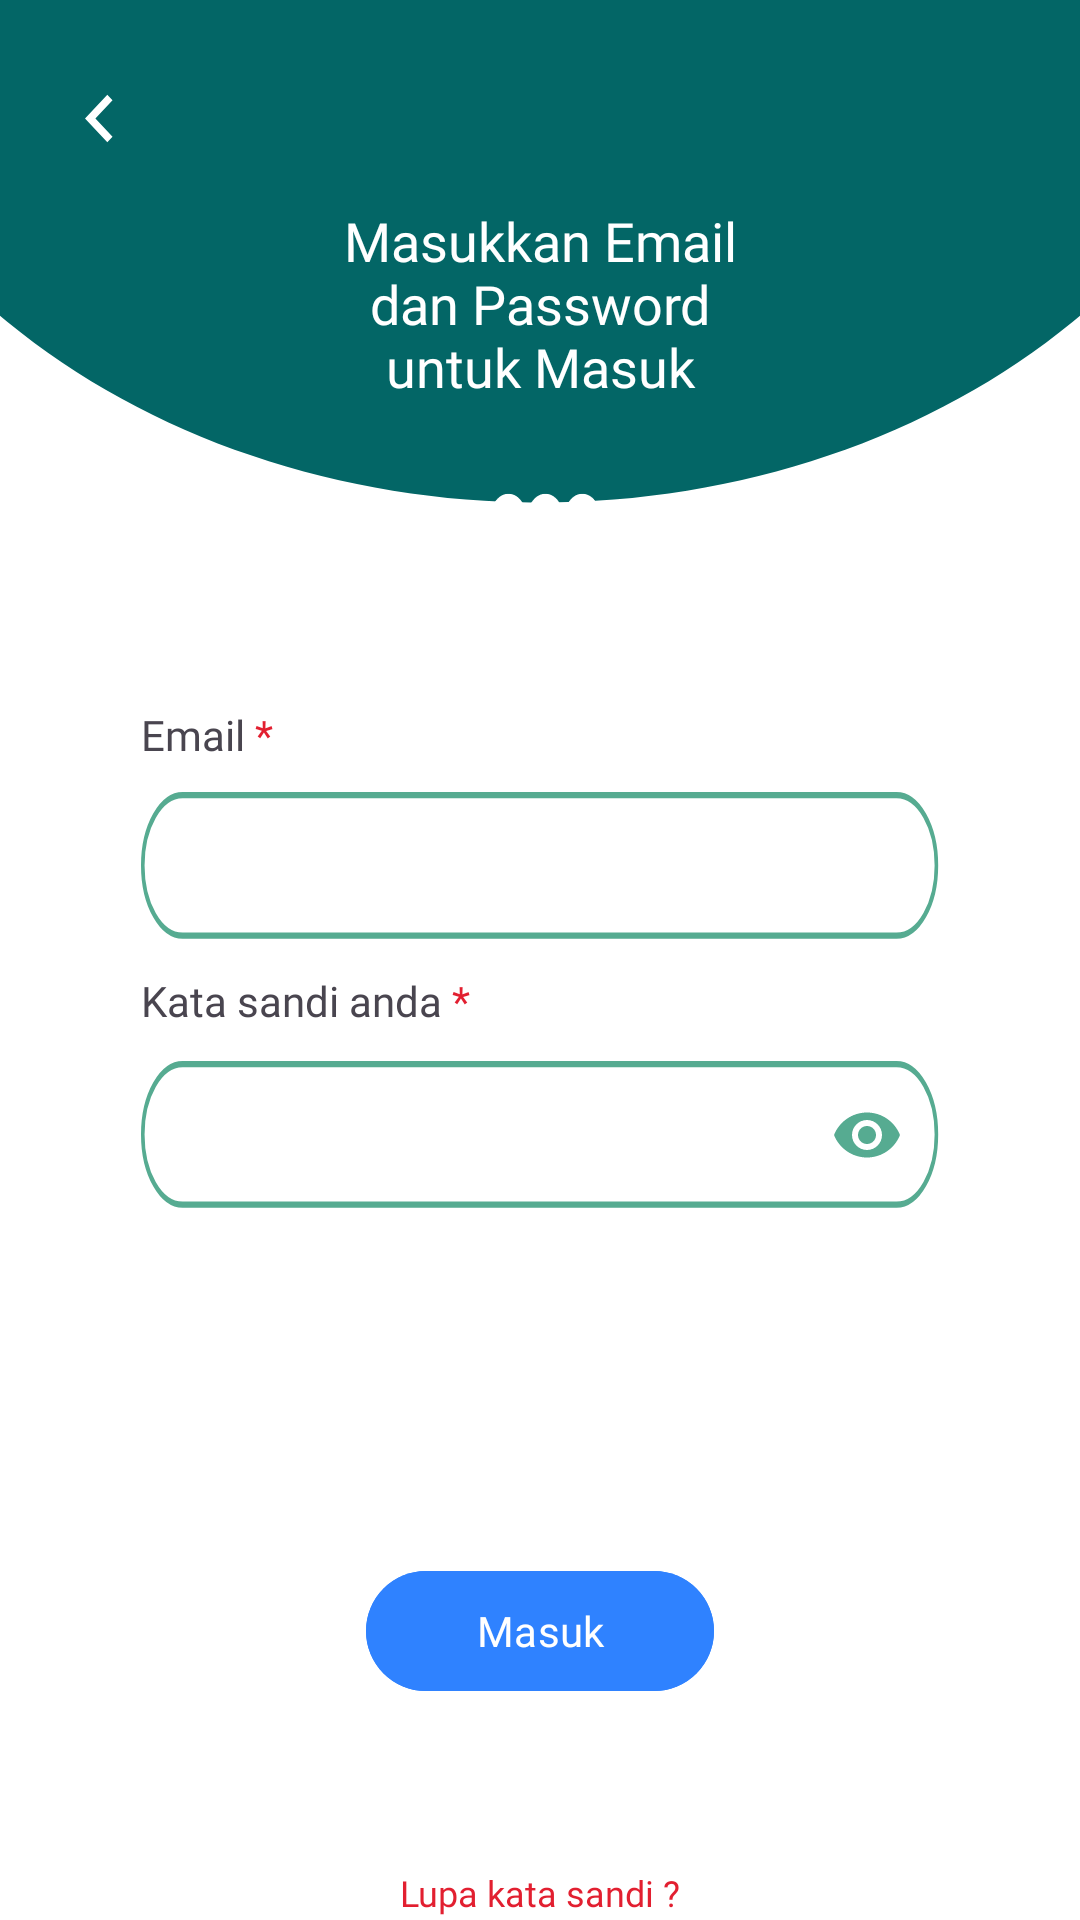

Where icons sit on this 1080*1920 app screen, as (x1, y1, x2, y2):
back: (85, 95, 113, 142)
